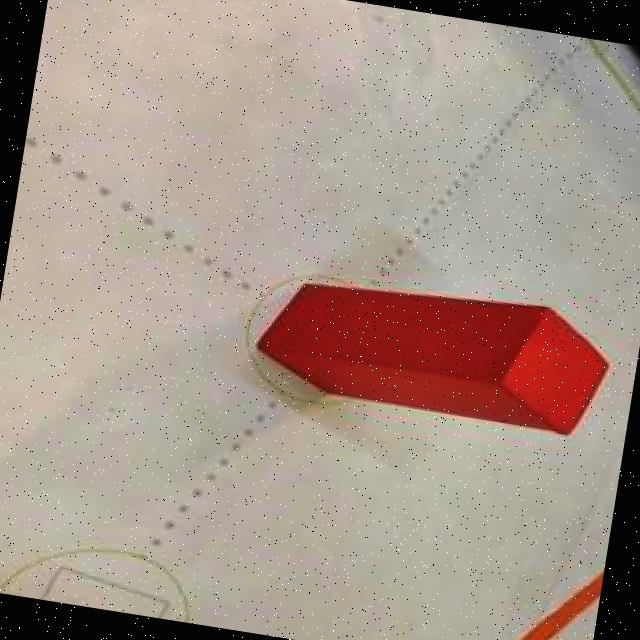redbox: (260, 276, 612, 434)
